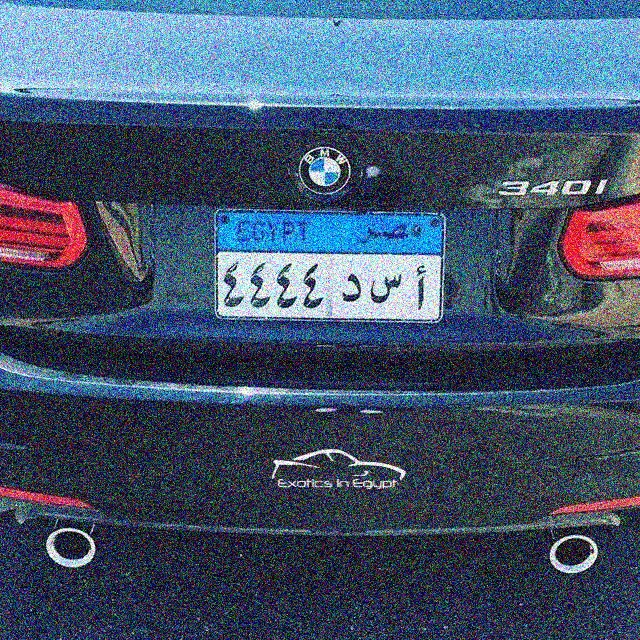License Plate: (212, 207, 449, 326)
